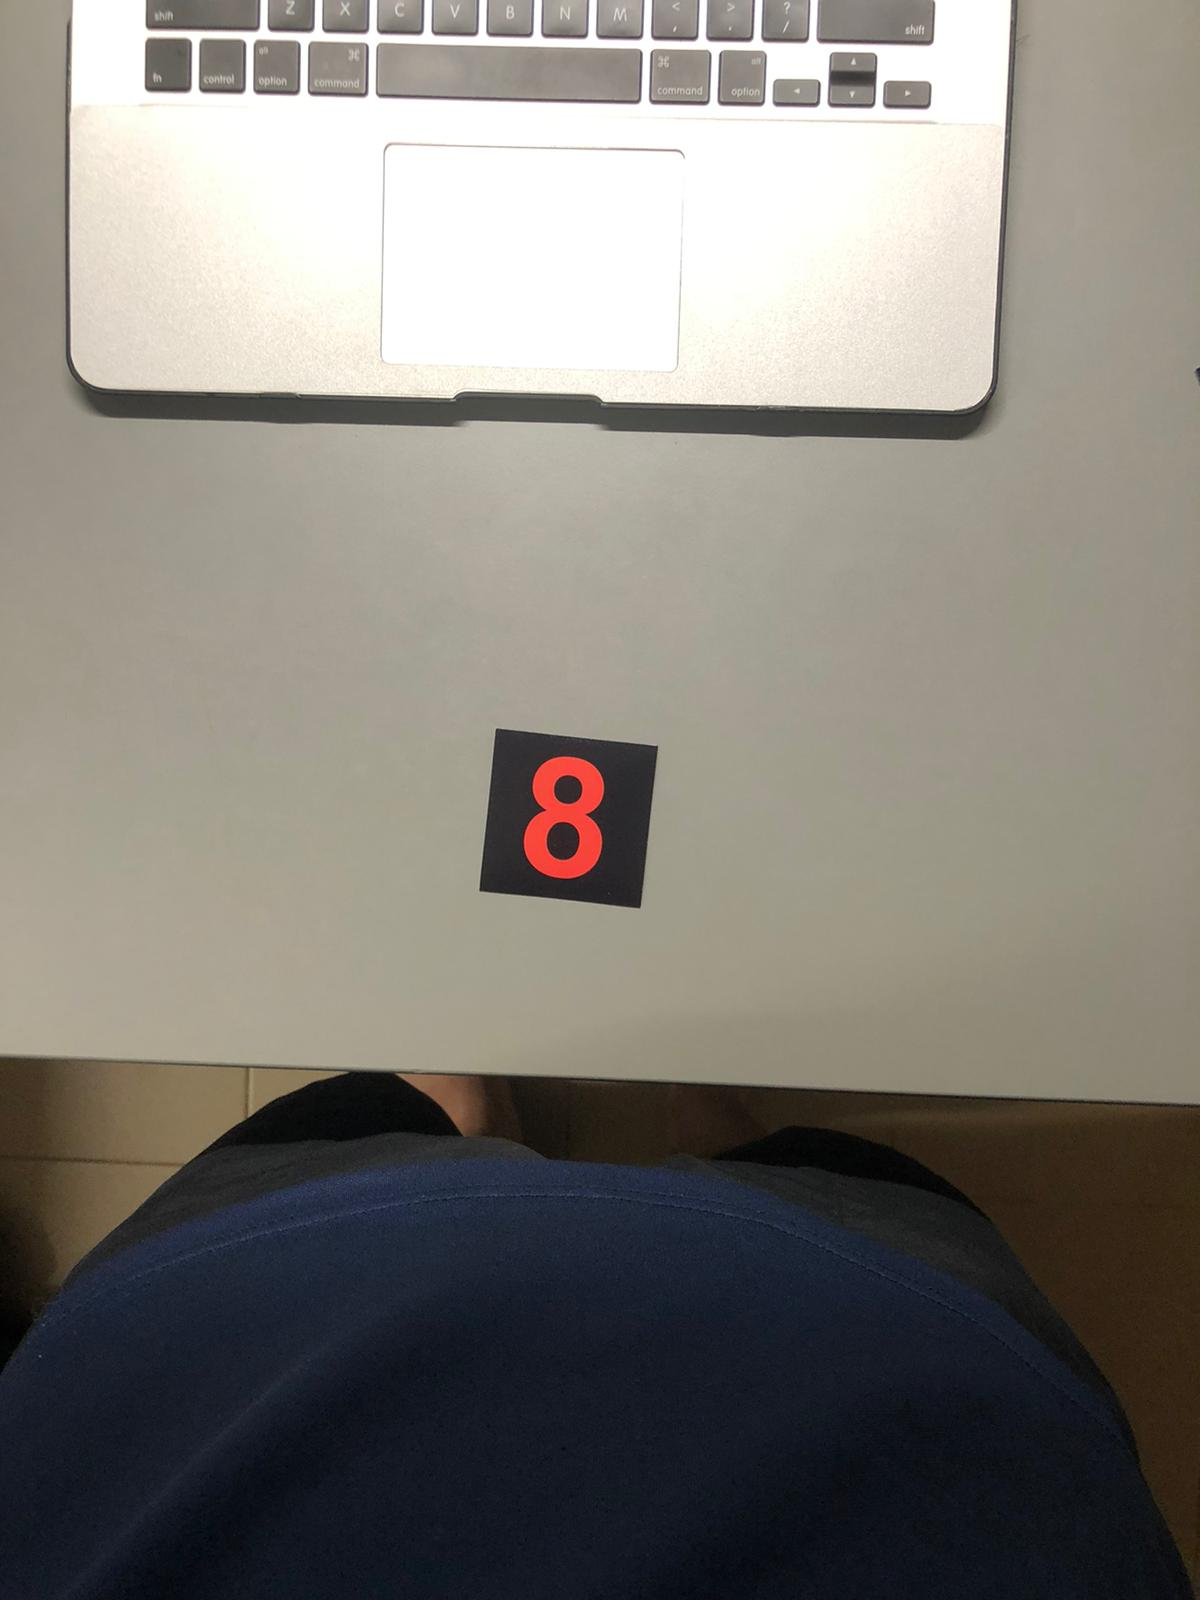Number 8: (492, 736, 635, 905)
